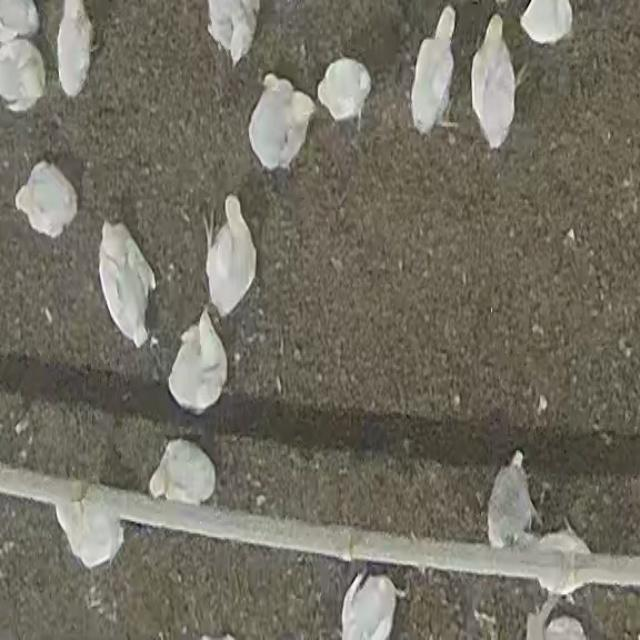chicken: (92, 222, 160, 344), (196, 188, 258, 318), (248, 72, 314, 176), (167, 307, 228, 415), (470, 13, 516, 150), (410, 7, 457, 138), (55, 484, 125, 568), (18, 157, 81, 239), (486, 453, 538, 548), (148, 438, 215, 506), (316, 58, 372, 128), (56, 0, 94, 97), (205, 0, 259, 67), (1, 37, 46, 114), (522, 598, 580, 640)
